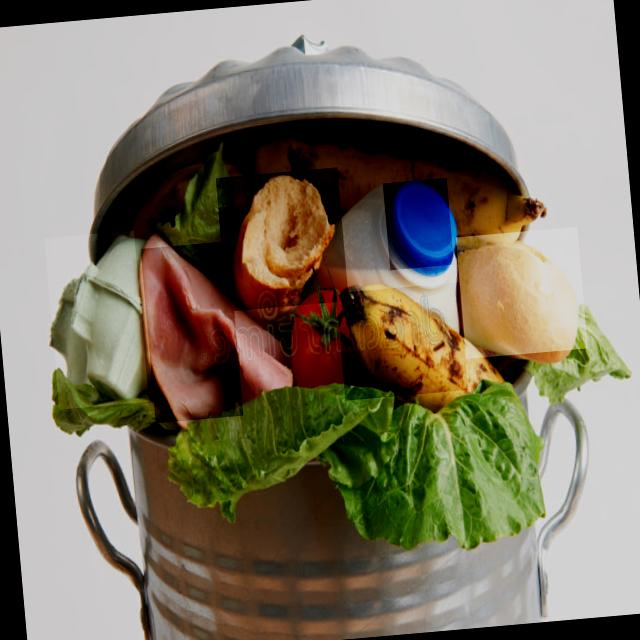Bottle cap: (382, 178, 453, 270)
Food waste: (215, 168, 348, 312), (140, 241, 242, 423), (456, 226, 588, 358), (336, 282, 468, 401)
Other Carton: (43, 230, 148, 409)
